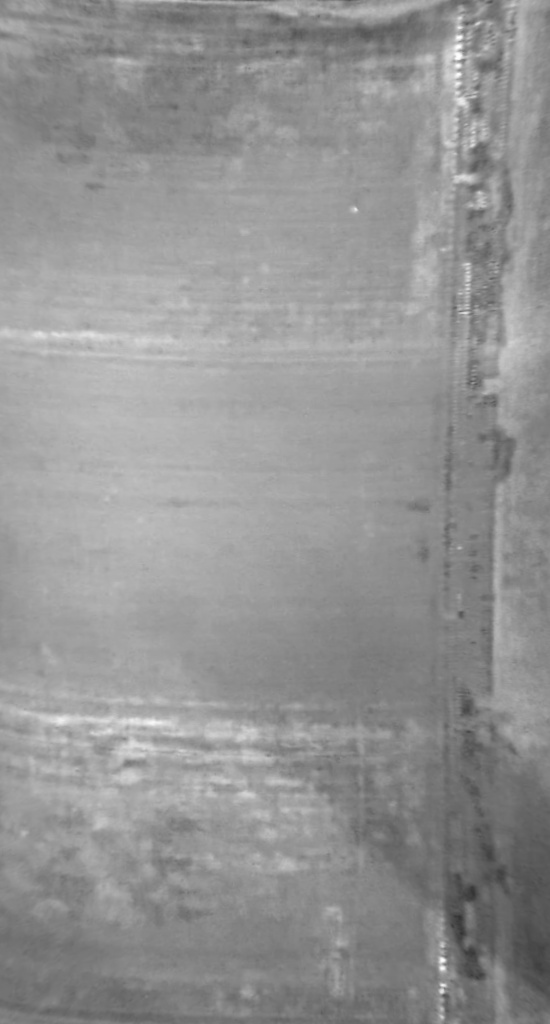splice: (429, 1, 526, 1022)
